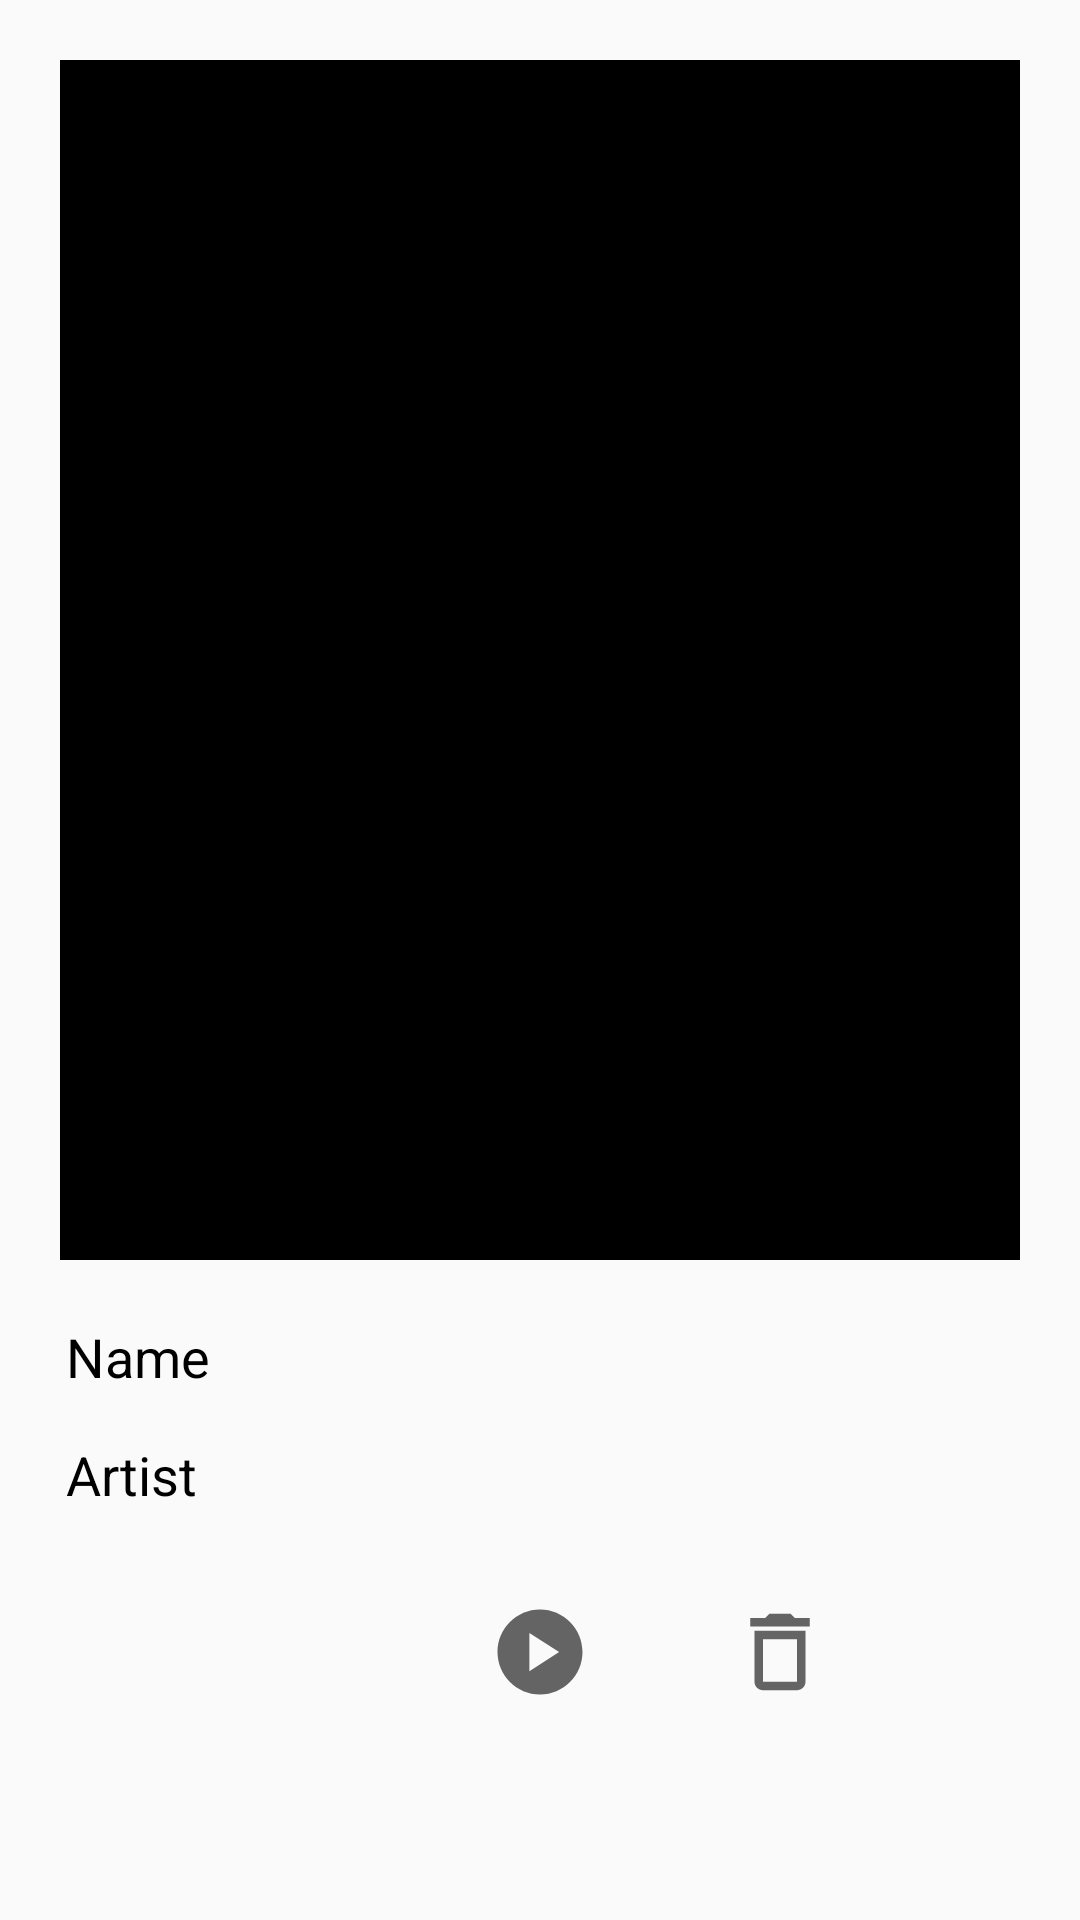

Named icons in this screenshot (1080×1920) and their centers, [x,y]:
delete: [780,1652]
play: [540,1652]
